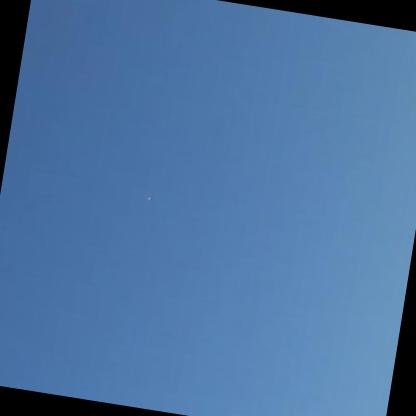plane: (138, 187, 159, 205)
